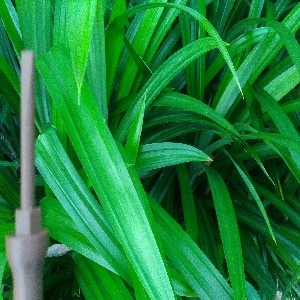obeng: (4, 49, 50, 300)
